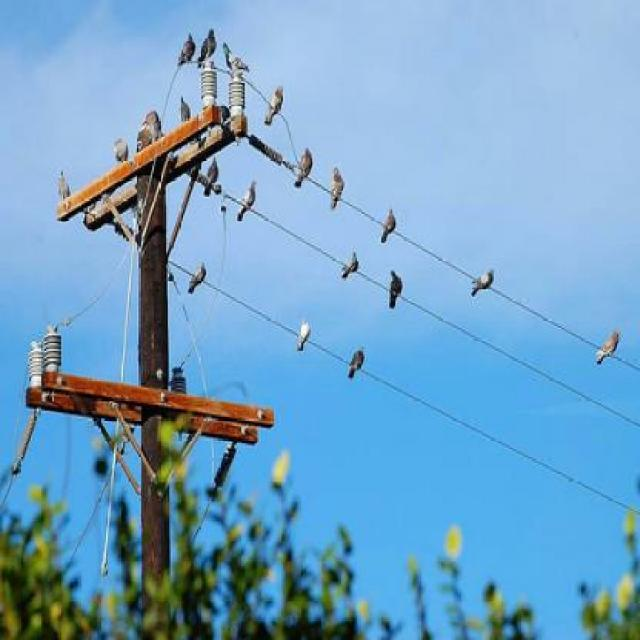pole: (37, 31, 280, 640)
